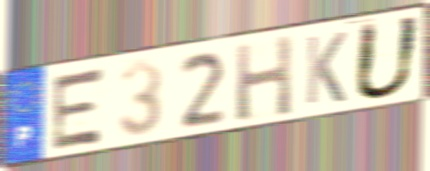2: (177, 50, 228, 132)
3: (115, 56, 166, 141)
E: (48, 64, 109, 153)
H: (233, 32, 295, 125)
K: (303, 29, 349, 108)
U: (350, 13, 424, 103)
